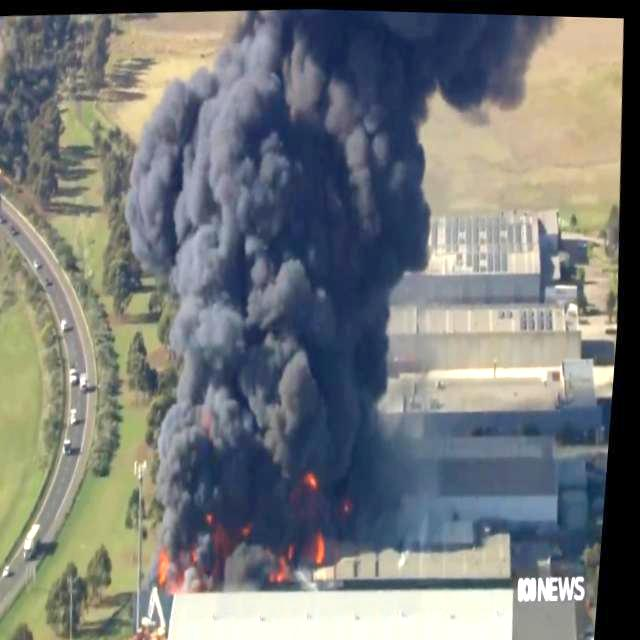fire: (308, 453, 334, 495), (323, 527, 337, 563), (167, 546, 181, 580)
